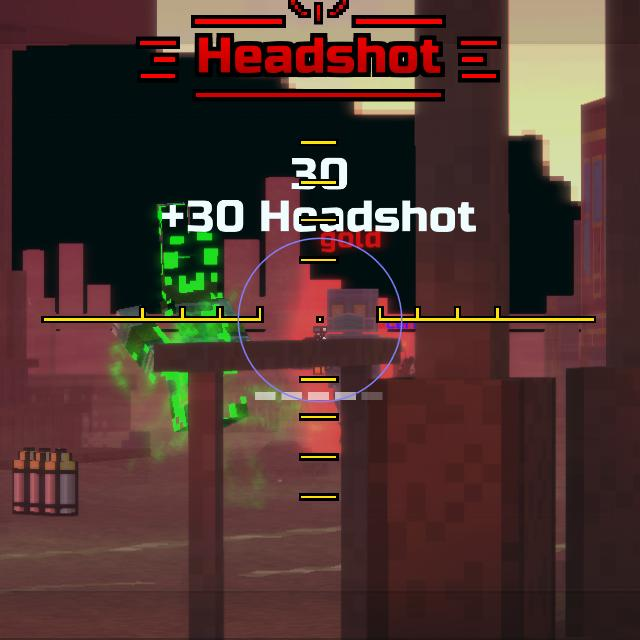Enemy: (325, 289, 381, 447)
